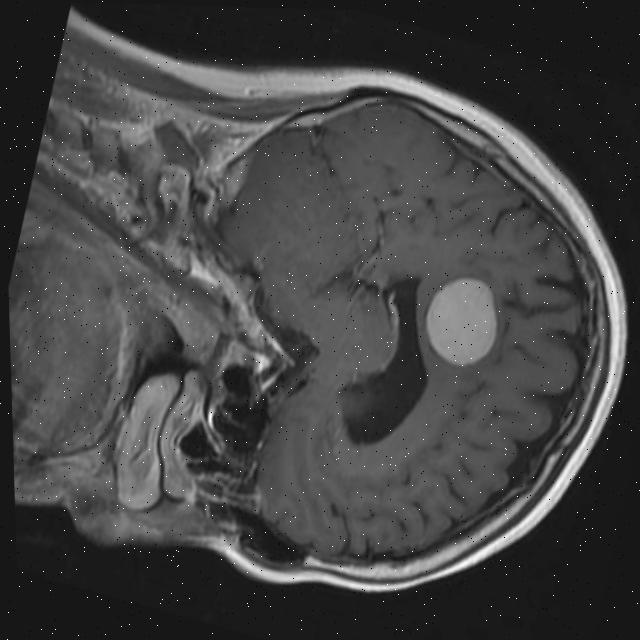Meningioma: (413, 266, 510, 376)
